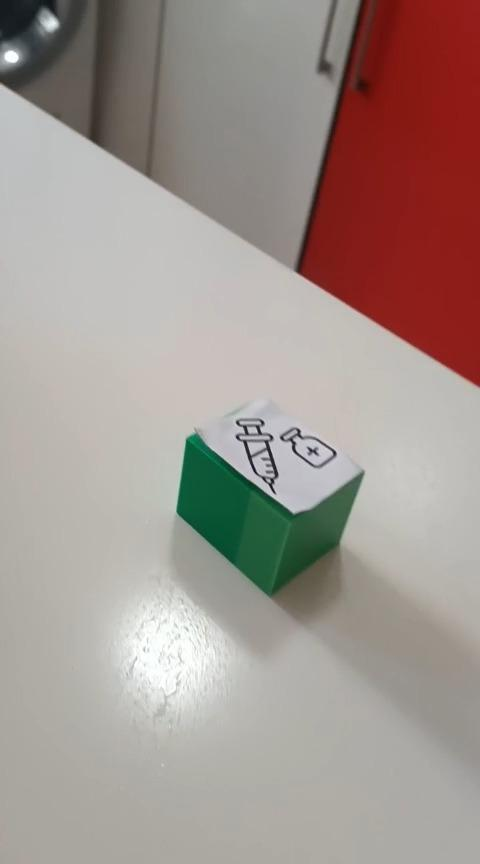antiseptic cream: (174, 394, 365, 597)
